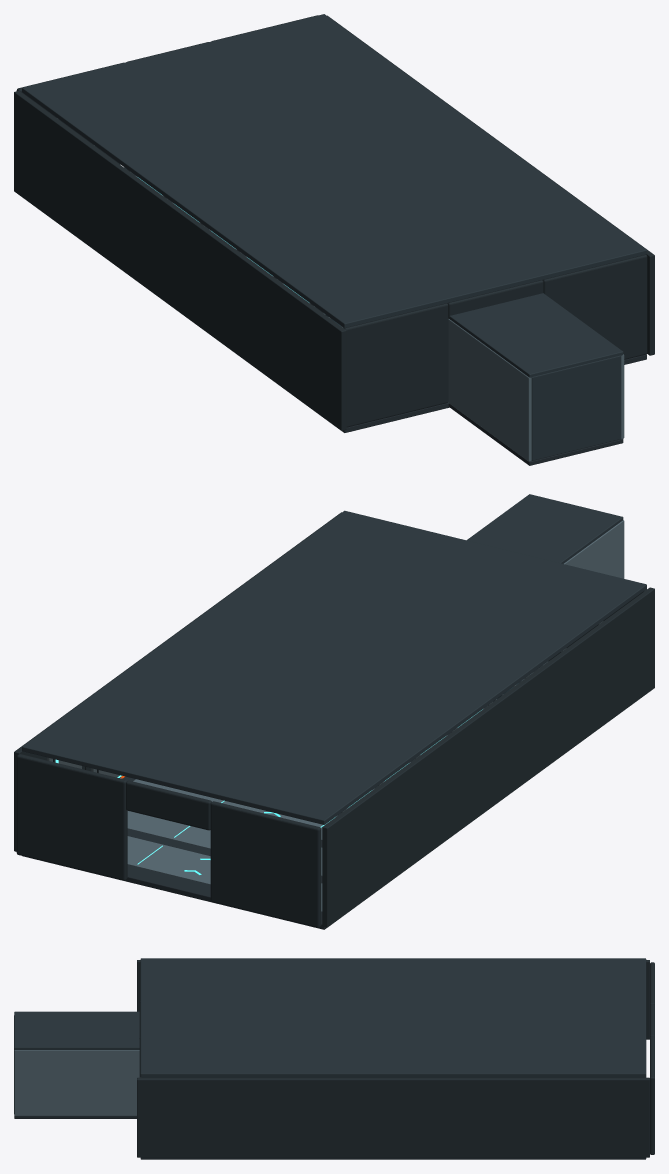
File: GateLab_Form_v0.3.fbx
3 views of the same model, one above another, from view 1: azimuth 30°, elevation 25°; view 2: azimuth 150°, elevation 25°; view 3: azimuth 270°, elevation 25° (orthographic). The views are drawn at different scales.
Visible parts, largest first — view 1: Ceiling, Wall_W, NorthWall_L, SectorBCeiling, SectorBPortal, SectorBWallL, NorthWall_R, NorthWall_Top, Wall_E, SectorBFloor, Floor; view 2: Ceiling, Wall_W, SouthWall_L, SouthWall_R, SectorBCeiling, SouthWall_Top, Floor, FloorPanel_+11, SectorBWallL, FloorPanel_+8, Wall_E, FloorPanel_+5; view 3: Ceiling, Wall_E, SectorBWallR, SectorBCeiling, Floor, SouthWall_R, Wall_W, SectorBFloor.
Part boxes in pixels (bbox=[...]): Ceiling: bbox=[22, 14, 646, 328]; Wall_W: bbox=[14, 91, 346, 430]; NorthWall_L: bbox=[343, 303, 448, 427]; SectorBCeiling: bbox=[449, 293, 623, 377]; SectorBPortal: bbox=[531, 355, 621, 460]; SectorBWallL: bbox=[448, 319, 531, 461]; NorthWall_R: bbox=[542, 255, 647, 359]; NorthWall_Top: bbox=[447, 280, 543, 318]; Wall_E: bbox=[327, 15, 654, 355]; SectorBFloor: bbox=[448, 403, 623, 465]; Floor: bbox=[124, 167, 646, 432]; Ceiling: bbox=[22, 510, 646, 824]; Wall_W: bbox=[322, 587, 654, 927]; SouthWall_L: bbox=[210, 801, 321, 927]; SouthWall_R: bbox=[16, 754, 127, 880]; SectorBCeiling: bbox=[467, 494, 623, 563]; SouthWall_Top: bbox=[126, 780, 211, 830]; Floor: bbox=[22, 668, 538, 929]; FloorPanel_+11: bbox=[127, 836, 322, 911]; SectorBWallL: bbox=[564, 520, 624, 578]; FloorPanel_+8: bbox=[127, 811, 322, 875]; Wall_E: bbox=[14, 512, 341, 851]; FloorPanel_+5: bbox=[133, 779, 337, 840]; Ceiling: bbox=[140, 958, 646, 1077]; Wall_E: bbox=[137, 1077, 649, 1157]; SectorBWallR: bbox=[14, 1050, 139, 1115]; SectorBCeiling: bbox=[14, 1011, 139, 1049]; Floor: bbox=[140, 1077, 646, 1159]; SouthWall_R: bbox=[650, 1036, 654, 1154]; Wall_W: bbox=[137, 960, 649, 1039]; SectorBFloor: bbox=[14, 1116, 136, 1118].
Size of the model in its own units: 1482 by 495 by 3348.
